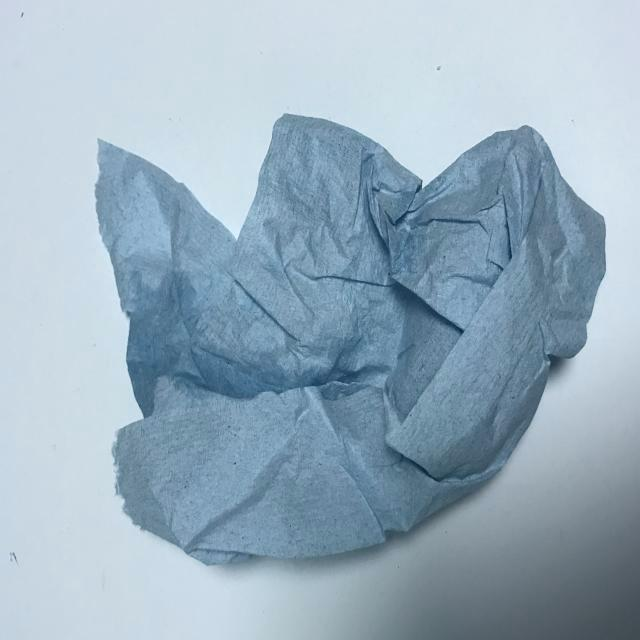paper: (85, 99, 622, 583)
